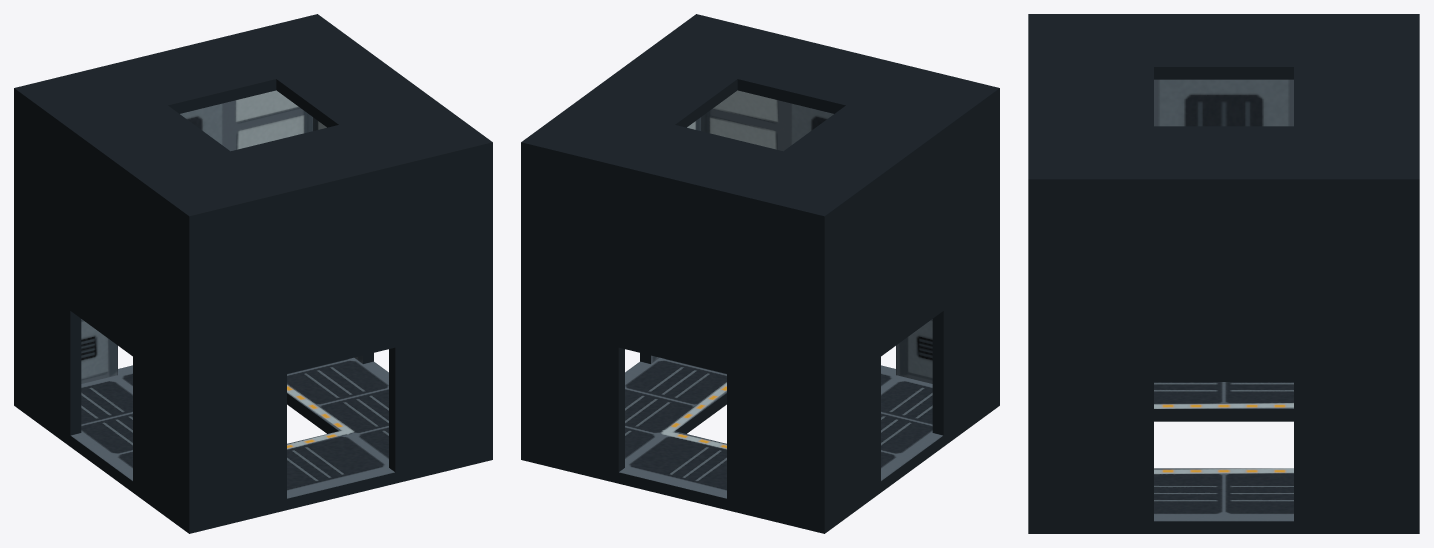
File: cube-room-lod.obj
3 views of the same model, side by side, from view 1: azimuth 30°, elevation 25°; view 2: azimuth 150°, elevation 25°; view 3: azimuth 270°, elevation 25° (orthographic). The views are drawn at different scales.
Visible parts, largest first — view 1: LOD__room-steel-pz1, LOD__room-steel-pz0, LOD__room-steel-wx1, LOD__room-steel-ceil0, LOD__room-steel-pz2, LOD__room-steel-wx0, LOD__room-steel-ceil1, LOD__room-steel-wx2, LOD__room-steel-floor1, LOD__room-steel-floor0, LOD__room-steel-ceil3, LOD__room-steel-ceil2 (+7 smaller); view 2: LOD__room-steel-wz1, LOD__room-steel-wz0, LOD__room-steel-wx0, LOD__room-steel-ceil0, LOD__room-steel-wz2, LOD__room-steel-wx1, LOD__room-steel-ceil1, LOD__room-steel-wx2, LOD__room-steel-floor1, LOD__room-steel-floor0, LOD__room-steel-ceil2, LOD__room-steel-ceil3 (+7 smaller); view 3: LOD__room-steel-px0, LOD__room-steel-px1, LOD__room-steel-px2, LOD__room-steel-ceil1, LOD__room-steel-ceil0, LOD__room-steel-floor1, LOD__room-steel-ceil3, LOD__room-steel-ceil2, LOD__room-steel-wx2, LOD__room-steel-floor0, LOD__room-steel-wz1, LOD__room-steel-pz1 (+5 smaller).
Part boxes in pixels (x1,y1,x2,y2): LOD__room-steel-pz1: [389, 138, 492, 483]; LOD__room-steel-pz0: [183, 188, 286, 532]; LOD__room-steel-wx1: [133, 172, 200, 532]; LOD__room-steel-ceil0: [14, 64, 286, 227]; LOD__room-steel-pz2: [281, 161, 395, 373]; LOD__room-steel-wx0: [14, 85, 81, 446]; LOD__room-steel-ceil1: [220, 14, 492, 176]; LOD__room-steel-wx2: [70, 129, 143, 356]; LOD__room-steel-floor1: [287, 357, 492, 483]; LOD__room-steel-floor0: [14, 375, 286, 533]; LOD__room-steel-ceil3: [231, 125, 395, 203]; LOD__room-steel-ceil2: [112, 38, 276, 113]; LOD__room-steel-wz1: [521, 137, 624, 482]; LOD__room-steel-wz0: [727, 188, 830, 532]; LOD__room-steel-wx0: [813, 172, 880, 533]; LOD__room-steel-ceil0: [727, 64, 999, 227]; LOD__room-steel-wz2: [618, 161, 732, 373]; LOD__room-steel-wx1: [932, 85, 999, 446]; LOD__room-steel-ceil1: [521, 14, 793, 176]; LOD__room-steel-wx2: [870, 128, 943, 356]; LOD__room-steel-floor1: [521, 357, 726, 483]; LOD__room-steel-floor0: [727, 375, 999, 533]; LOD__room-steel-ceil2: [618, 125, 782, 203]; LOD__room-steel-ceil3: [737, 38, 901, 113]; LOD__room-steel-px0: [1294, 173, 1419, 533]; LOD__room-steel-px1: [1028, 173, 1153, 533]; LOD__room-steel-px2: [1154, 173, 1293, 381]; LOD__room-steel-ceil1: [1028, 126, 1419, 191]; LOD__room-steel-ceil0: [1028, 14, 1419, 79]; LOD__room-steel-floor1: [1028, 468, 1419, 533]; LOD__room-steel-ceil3: [1028, 67, 1153, 126]; LOD__room-steel-ceil2: [1294, 67, 1419, 126]; LOD__room-steel-wx2: [1154, 14, 1293, 126]; LOD__room-steel-floor0: [1154, 382, 1293, 421]; LOD__room-steel-wz1: [1405, 126, 1419, 533]; LOD__room-steel-pz1: [1028, 126, 1042, 533].
Size of the model in its own units: 14 by 14 by 14.
Materials: 1 (1 with a texture image).
